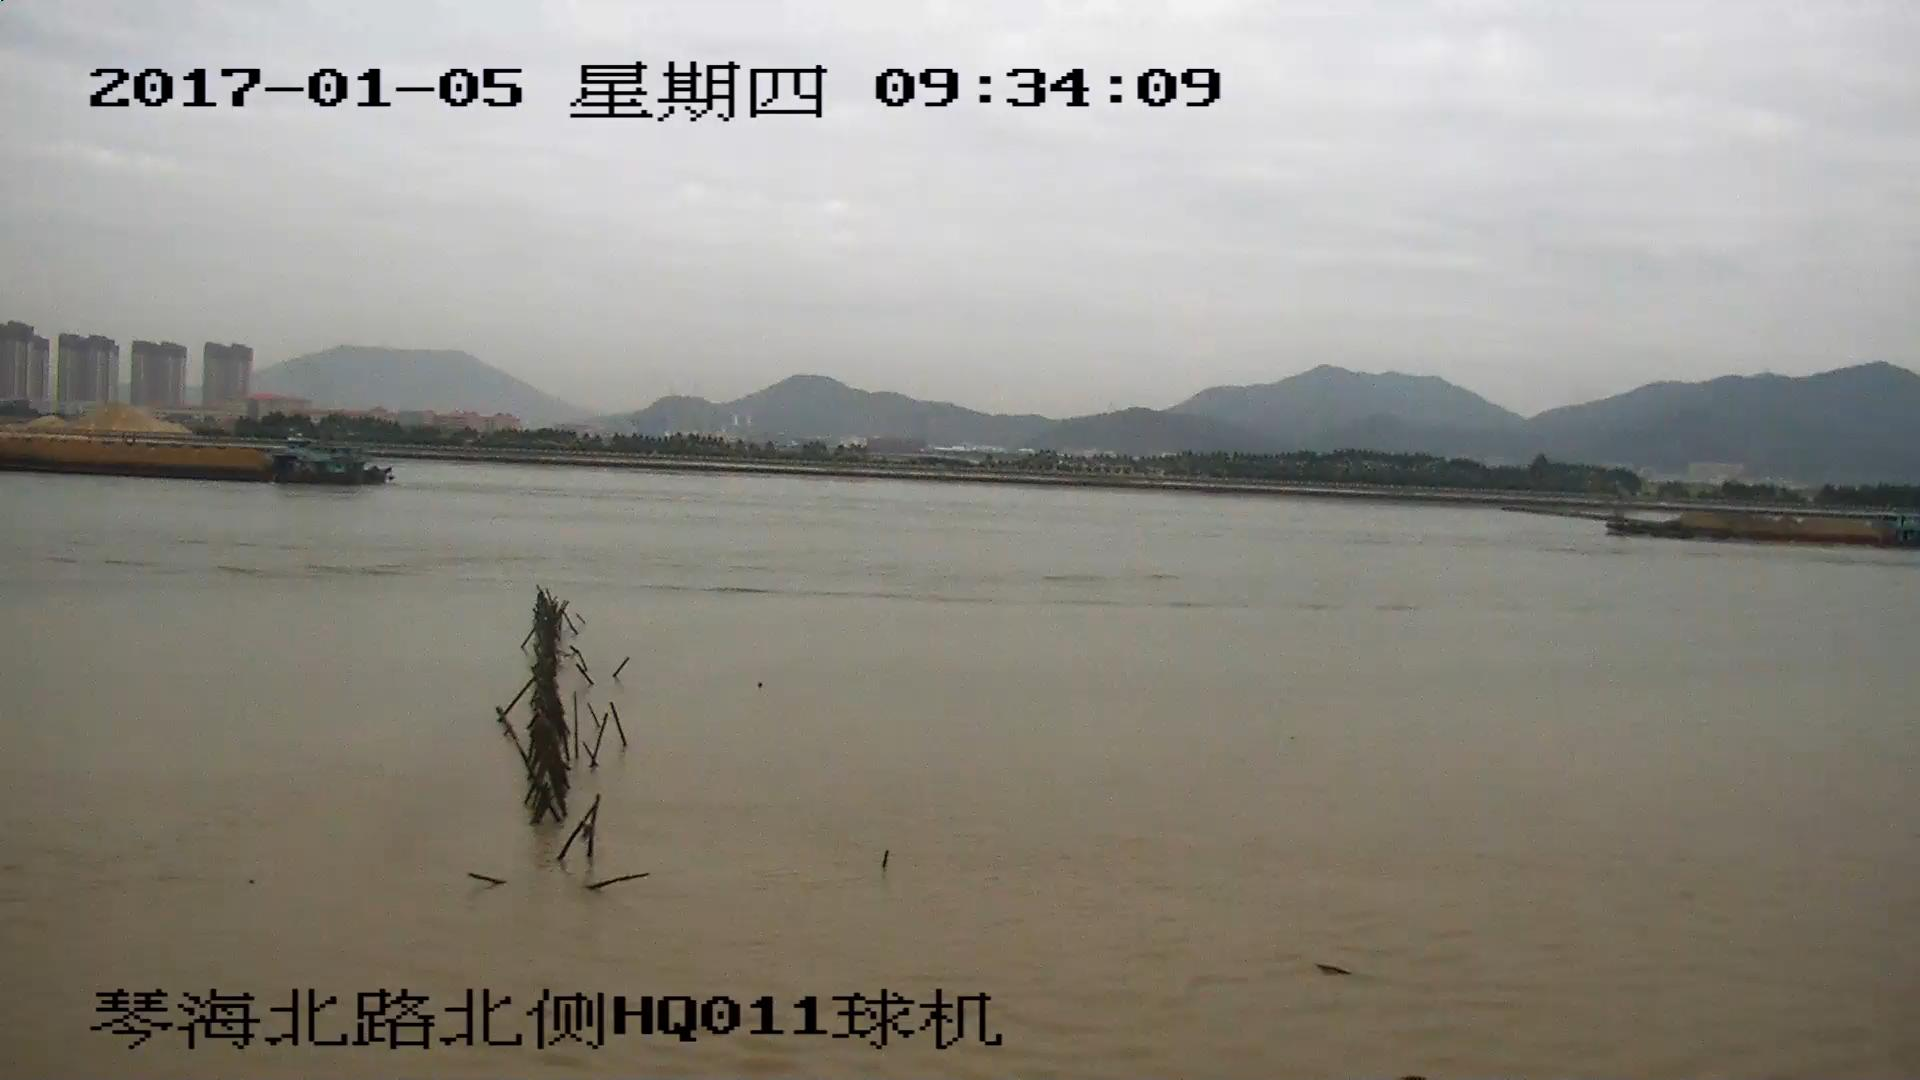ore carrier: (1, 436, 386, 484), (1510, 506, 1920, 548)
